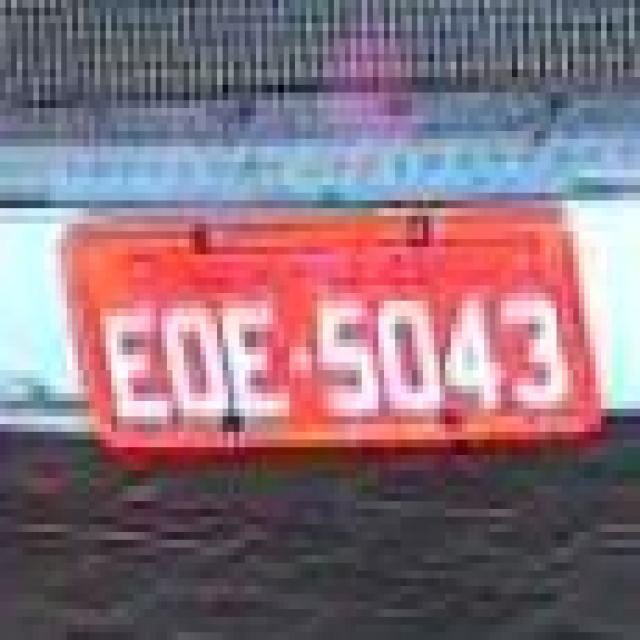0: (372, 286, 440, 432)
3: (501, 275, 575, 419)
4: (437, 276, 503, 416)
5: (317, 282, 376, 420)
E: (98, 300, 172, 435), (224, 296, 287, 425)
O: (157, 285, 231, 444)
